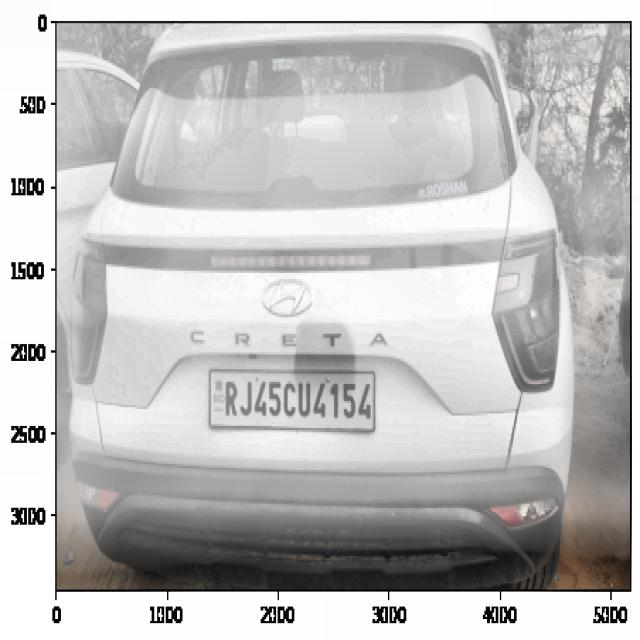license_plate: (220, 372, 375, 427)
